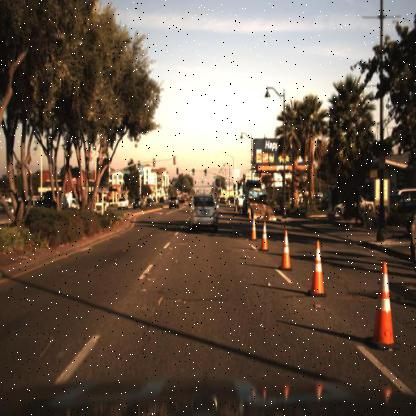car: (331, 186, 376, 220), (242, 173, 274, 220), (187, 189, 220, 234), (332, 192, 376, 218), (115, 194, 130, 212), (167, 192, 179, 214), (130, 194, 144, 212), (132, 194, 146, 210), (234, 190, 245, 210), (116, 197, 130, 209), (144, 195, 154, 210)
truck: (242, 182, 272, 223), (64, 189, 78, 212)
